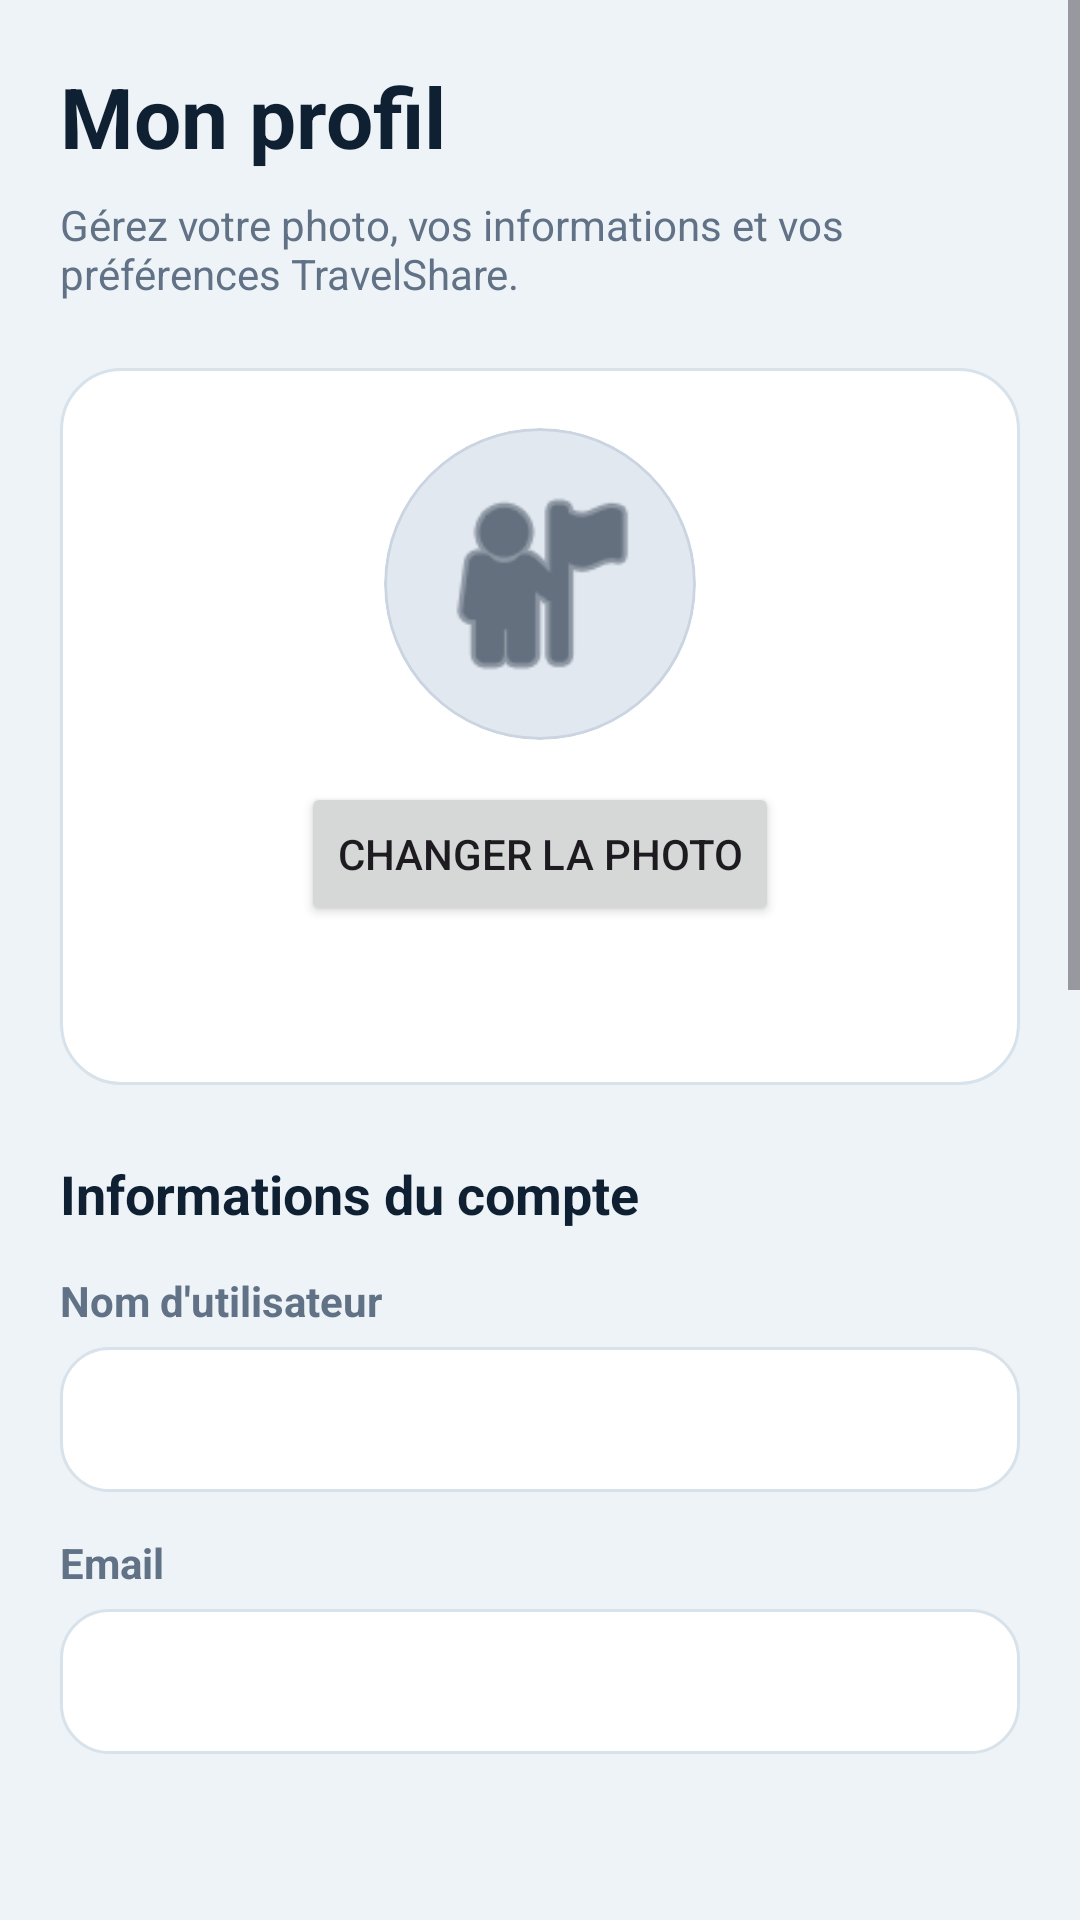

Where to tap for icons on this 1080 x 1920 app screen, as (x,y):
Photo de profil: (540,584)
